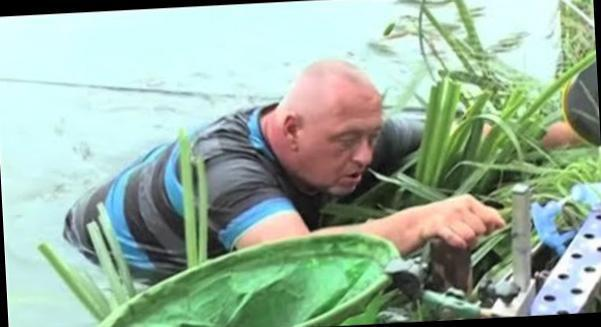Drunk: (322, 97, 385, 195)
